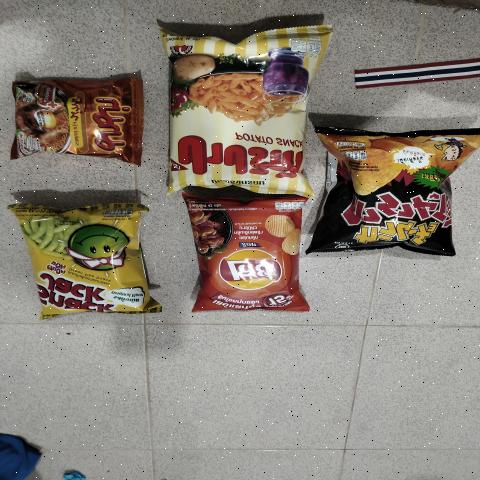karamujo: (349, 143, 437, 249)
mama: (27, 88, 126, 154)
paprika: (178, 30, 313, 173)
snack_jack: (44, 201, 135, 308)
